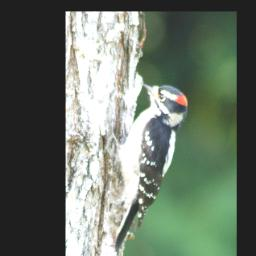Woodpecker: (108, 78, 190, 256)
